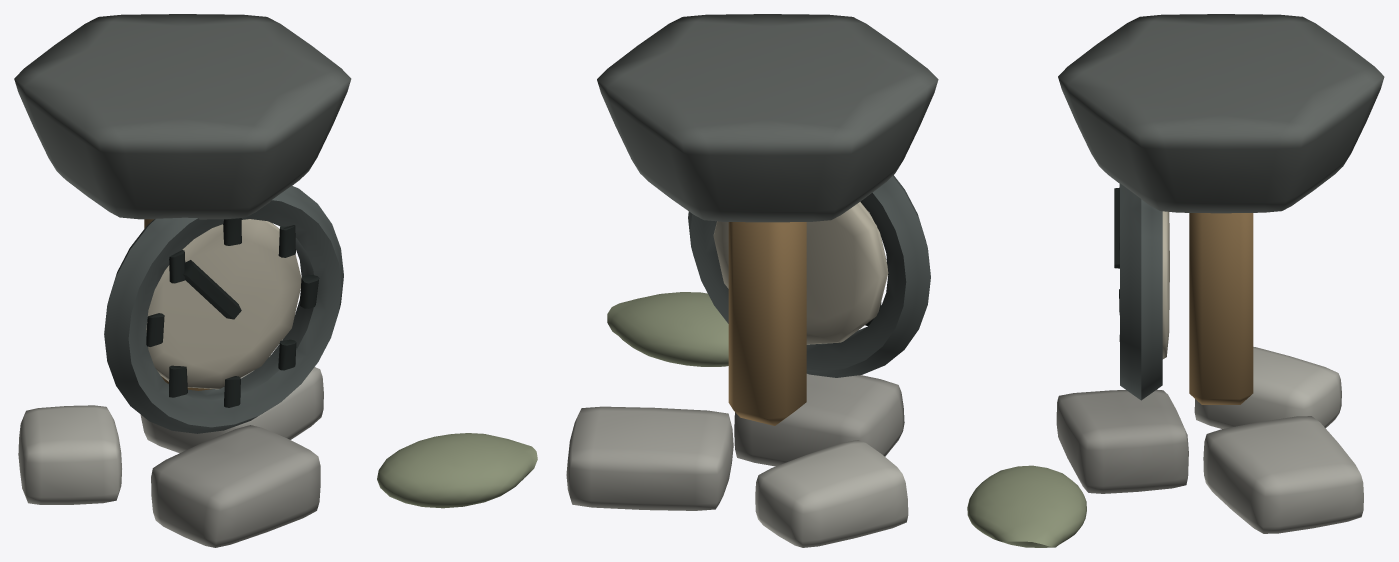
File: rain_gauge_a.glb
The picture shows the model from 3 angles, left to right: view 1: azimuth 30°, elevation 25°; view 2: azimuth 150°, elevation 25°; view 3: azimuth 270°, elevation 25°; orthographic projection. The views are drawn at different scales.
Parts seen in each view (by area): view 1: Surface; view 2: Surface; view 3: Surface.
Part boxes in pixels (box(x1,y1,x2,y2)): Surface: box(14, 14, 537, 547); Surface: box(566, 14, 938, 547); Surface: box(967, 14, 1384, 547).
Size of the model in its own units: 1.4 by 1.38 by 1.3.
